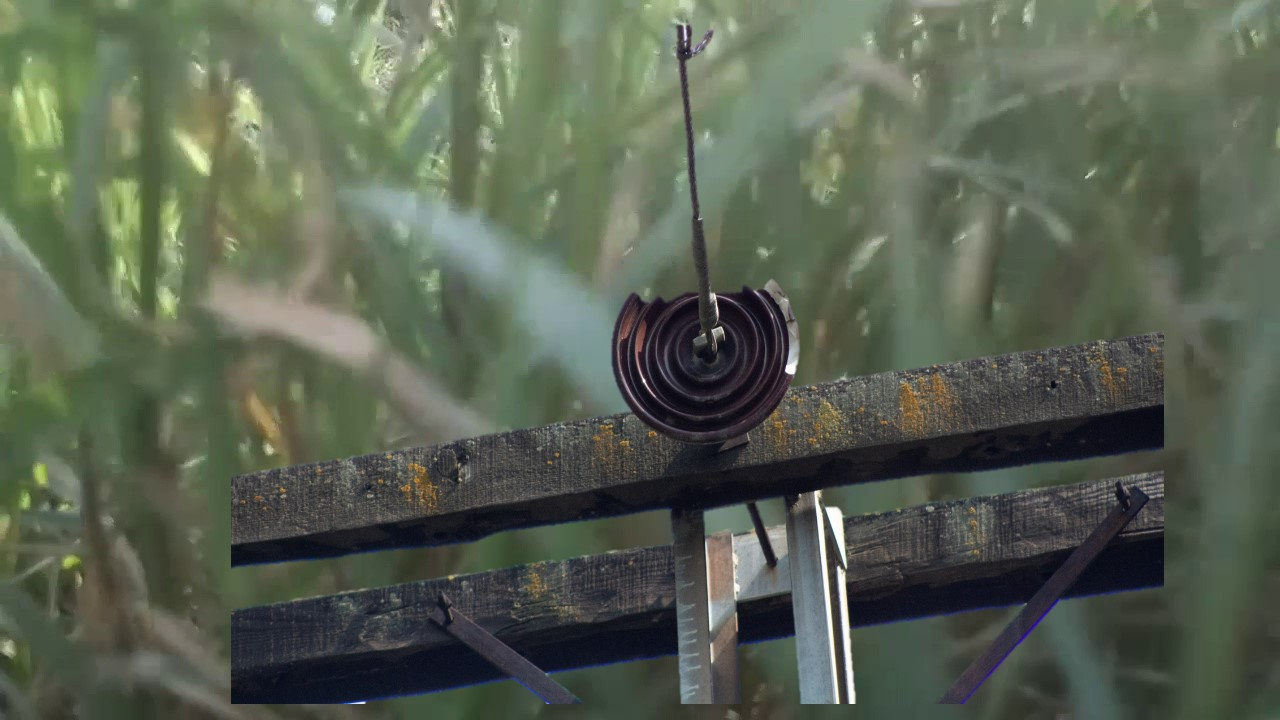defect_disc: (610, 269, 805, 450)
